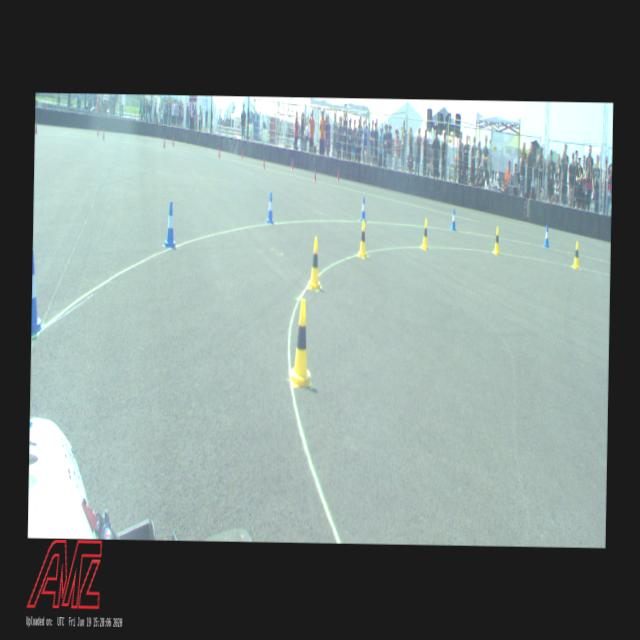blue_cone: (31, 248, 45, 335), (164, 202, 176, 248), (266, 192, 274, 224), (360, 196, 366, 221), (543, 224, 549, 247), (451, 208, 456, 230)
unknown_cone: (313, 168, 316, 182), (262, 156, 265, 169), (35, 121, 37, 133), (102, 128, 104, 140), (290, 158, 292, 170), (336, 169, 338, 181), (97, 125, 99, 136), (163, 137, 165, 148), (218, 146, 220, 157), (172, 136, 174, 146), (240, 148, 242, 158)
yellow_cone: (288, 298, 312, 386), (308, 236, 320, 288), (358, 218, 367, 258), (492, 226, 500, 254), (421, 218, 428, 249), (572, 241, 579, 268)
